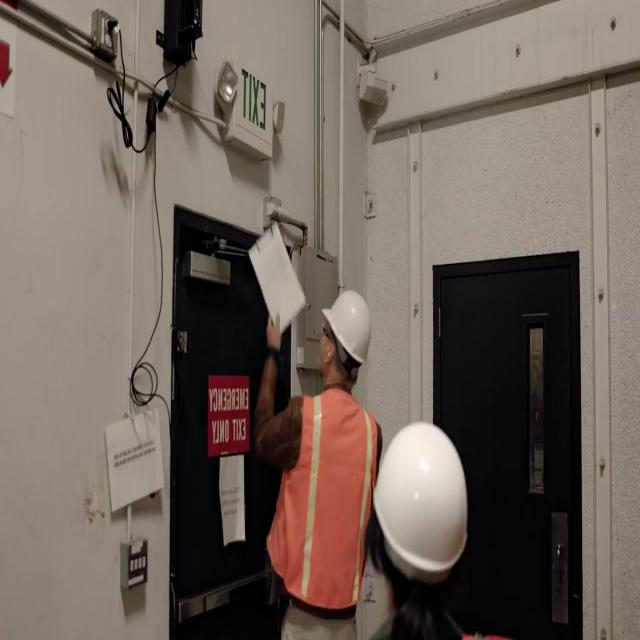Reflective-Jacket: (258, 390, 390, 618)
Safety-Helmet: (367, 410, 481, 589), (315, 278, 381, 380)
